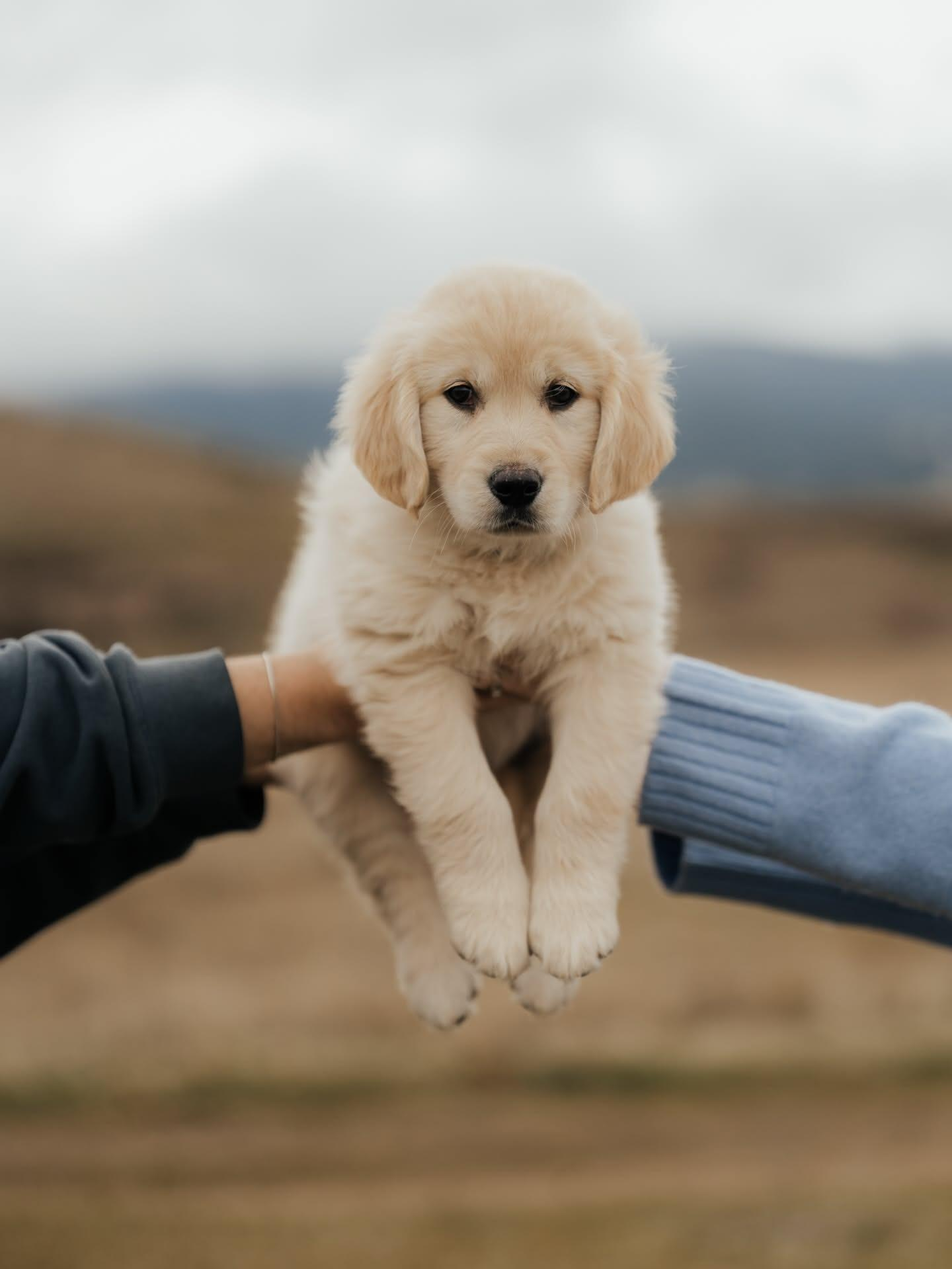puppy-dog: (262, 264, 679, 1032)
